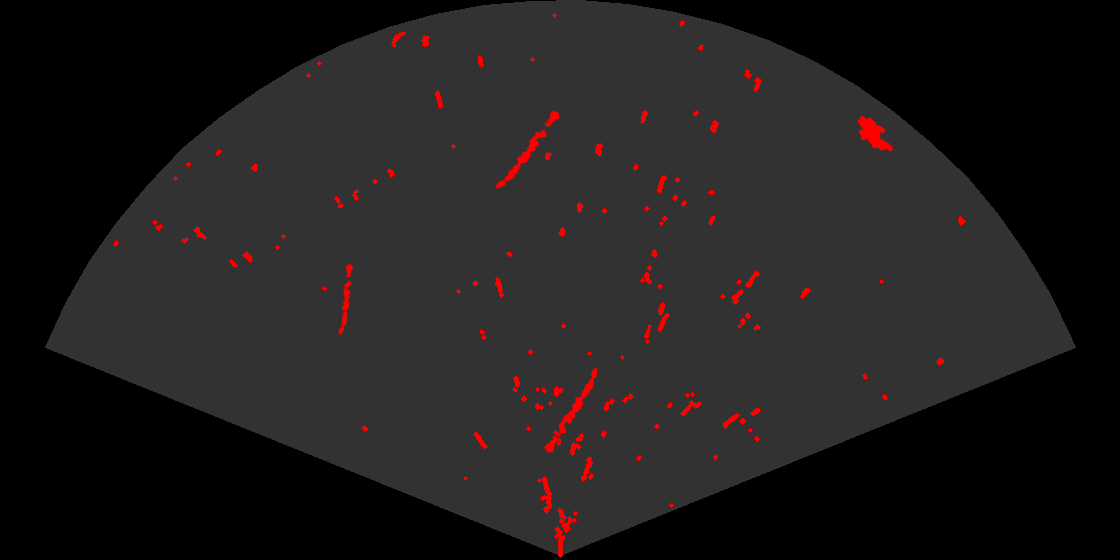AUV: (856, 114, 894, 153)
chain: (494, 109, 561, 190), (542, 366, 599, 455), (337, 263, 355, 337)
